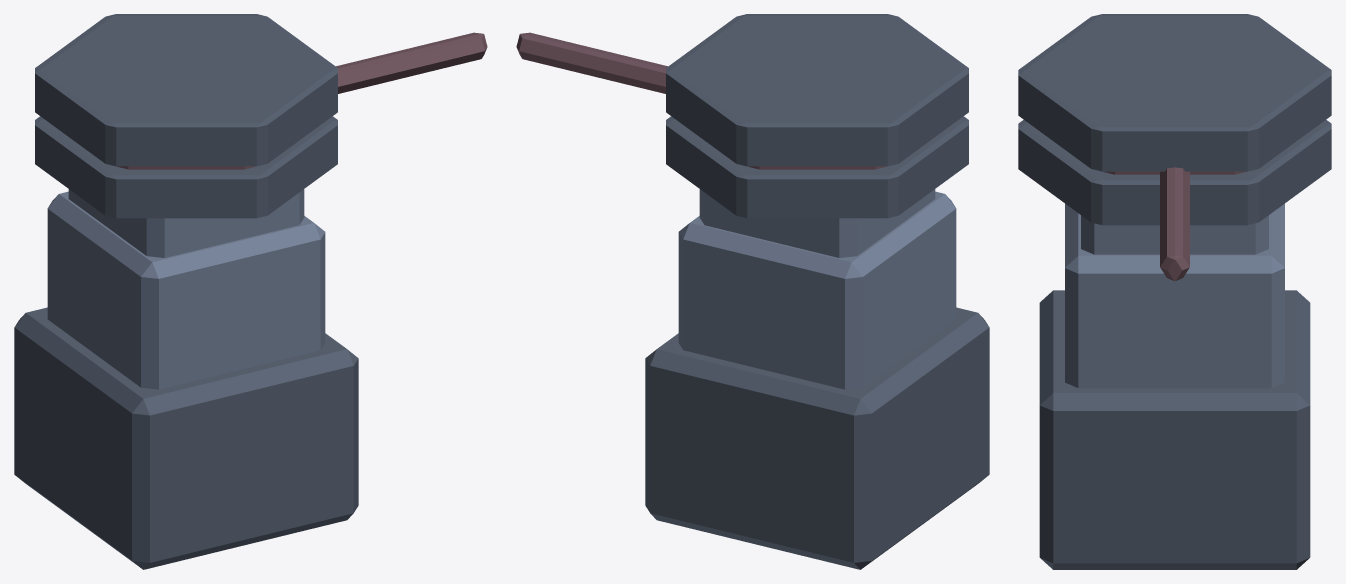
Rendered from Tower1.fbx.
3 views of the same model, side by side, from view 1: azimuth 30°, elevation 25°; view 2: azimuth 150°, elevation 25°; view 3: azimuth 270°, elevation 25° (orthographic). The views are drawn at different scales.
Visible parts, largest first — view 1: Cube, Cylinder; view 2: Cube, Cylinder; view 3: Cube, Cylinder.
Part boxes in pixels (left/top/right/bottom): Cube: left=14, top=189, right=358, bottom=569; Cylinder: left=35, top=14, right=487, bottom=218; Cube: left=645, top=189, right=989, bottom=569; Cylinder: left=516, top=14, right=968, bottom=218; Cube: left=1039, top=203, right=1310, bottom=569; Cylinder: left=1018, top=14, right=1331, bottom=281.
Bounding box in the file's own units: 365 × 365 × 232.
